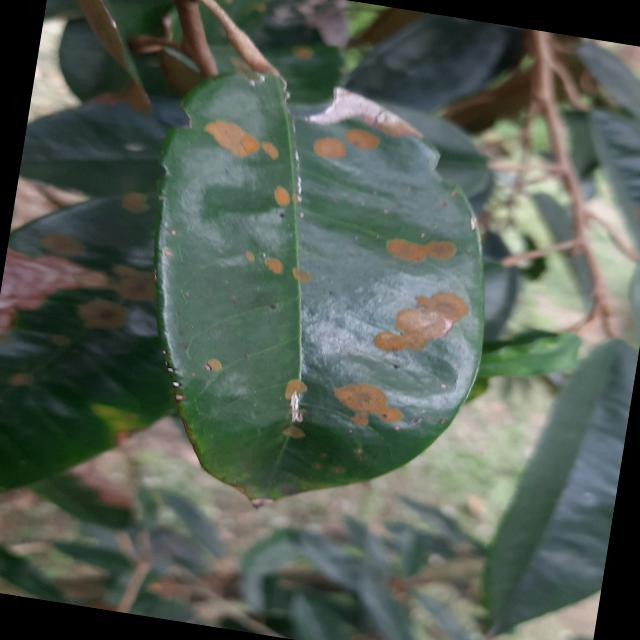Algal Leaf Spot: (118, 51, 528, 552)
